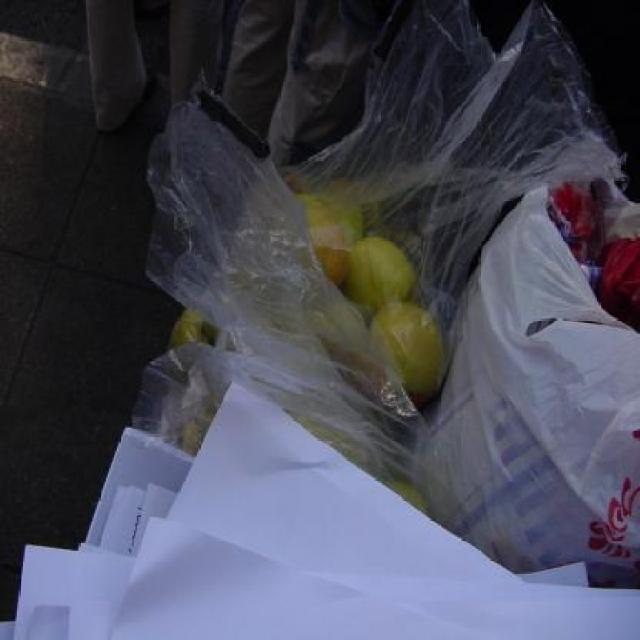plastic bag: (126, 71, 445, 537), (271, 0, 629, 405), (420, 150, 638, 576)
